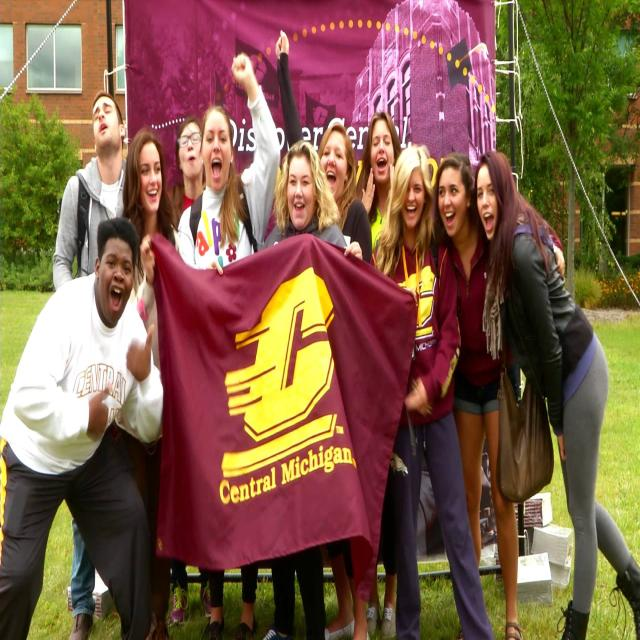body: (471, 147, 640, 640), (0, 214, 166, 640), (425, 150, 569, 640), (366, 141, 497, 639), (274, 26, 374, 640), (178, 51, 281, 639), (261, 138, 348, 640), (50, 86, 128, 640), (118, 126, 182, 640), (352, 108, 406, 640), (166, 116, 211, 625)
